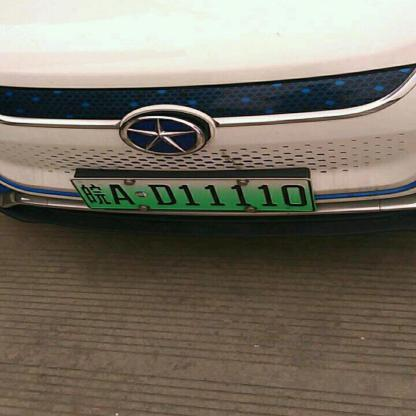lp: (72, 179, 315, 210)
